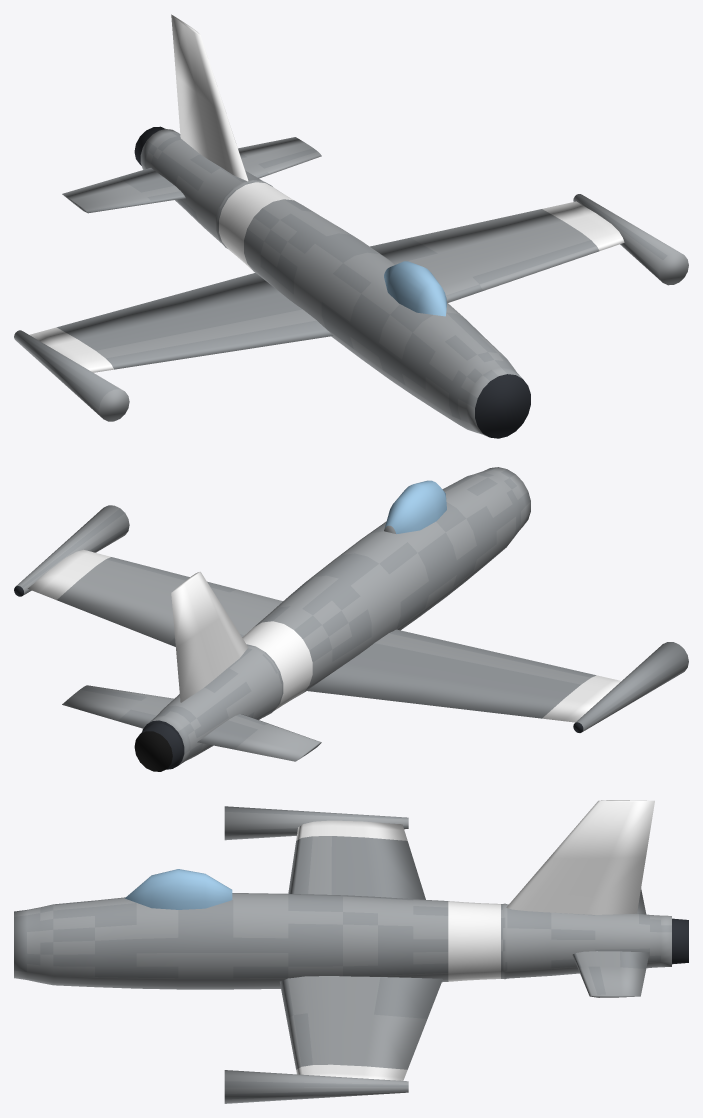
3 views of the same model, one above another, from view 1: azimuth 30°, elevation 25°; view 2: azimuth 150°, elevation 25°; view 3: azimuth 270°, elevation 25° (orthographic). The views are drawn at different scales.
Visible parts, largest first — view 1: body; view 2: body; view 3: body.
Boxes of the visible parts, x1,y1,x2,y2 form: body: (14,14,688,438); body: (14,467,688,771); body: (14,800,688,1103).
Size of the model in its own units: 11.6 by 3.59 by 11.9.
